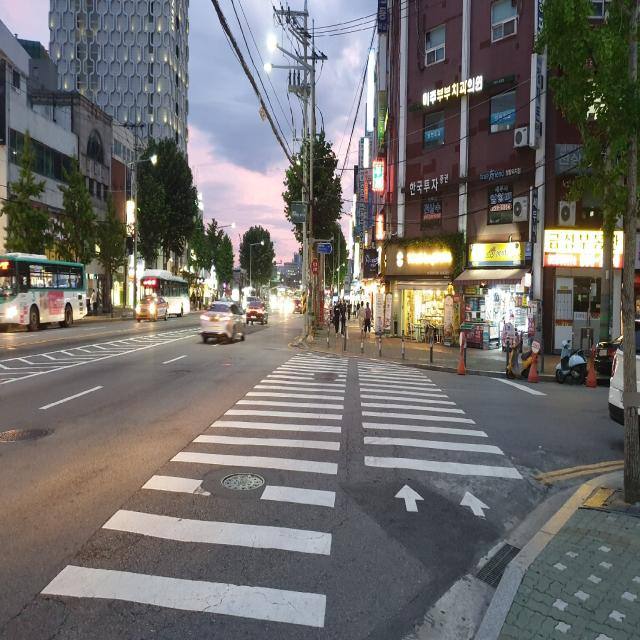횡단보도: (38, 352, 525, 630)
